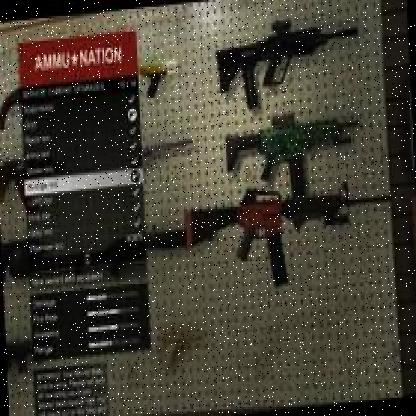rifle: (177, 168, 393, 291), (212, 16, 361, 102)
